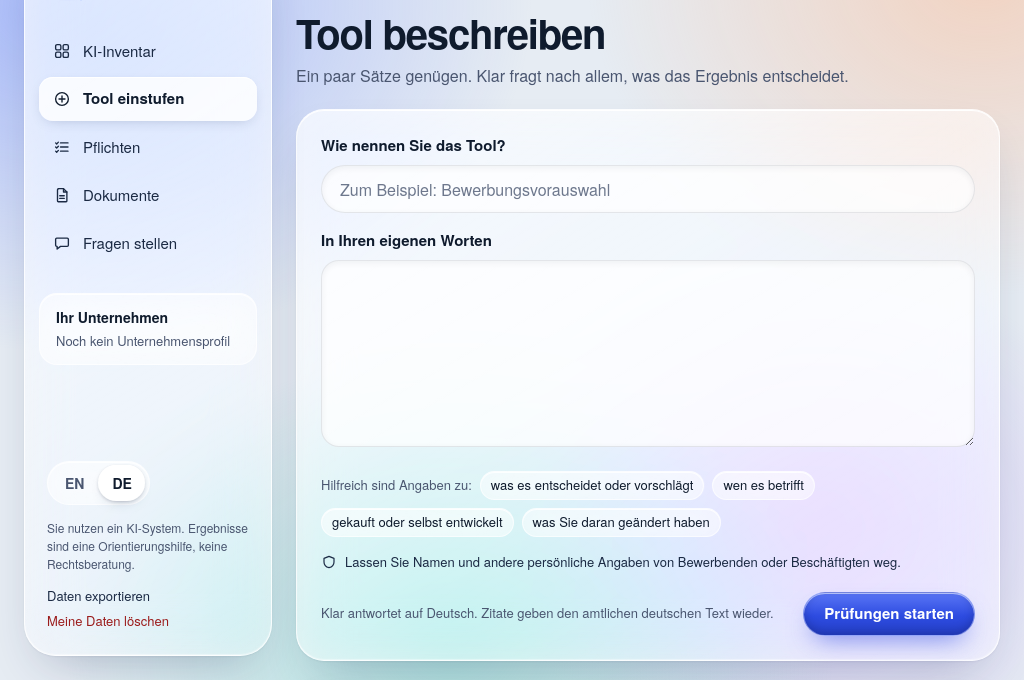
Test: Classify, a description too thin to start › asks the prompts in German
The image size is (1024, 680).
Expected: the heading "Tool beschreiben" is shown, [296, 4, 605, 61]
Click the text box labelled "In Ihren eigenen Worten" at [648, 354], box [321, 260, 975, 447]
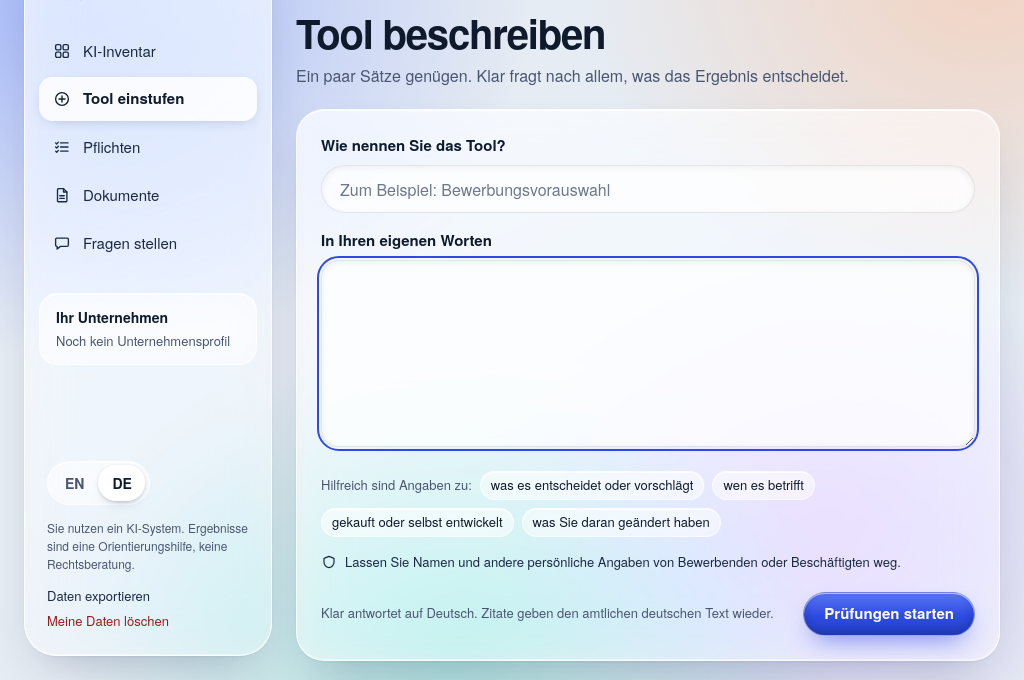
Type keys "We use AI for HR."
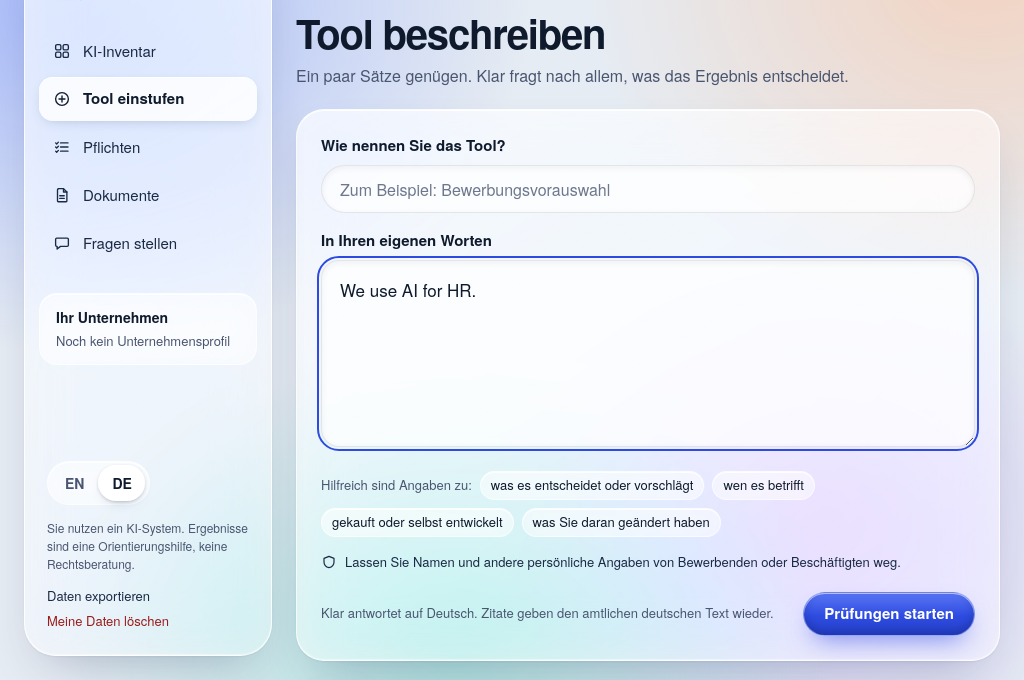
Click the button "Prüfungen starten" at [889, 614], box [803, 592, 975, 636]
(page scrolled)
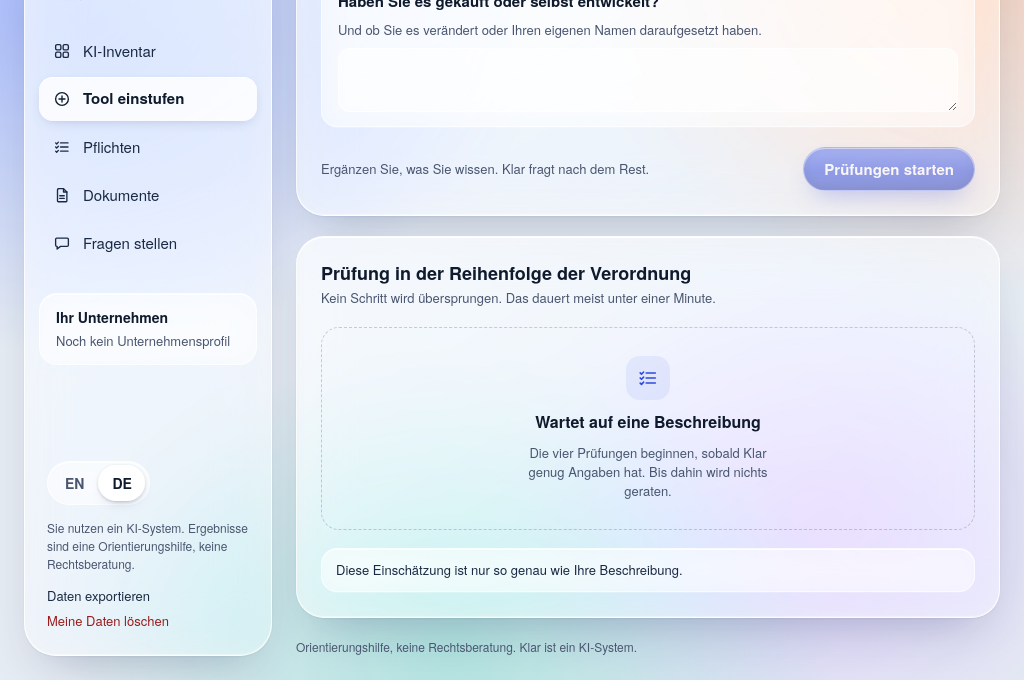
Expected: the text "Ergänzen Sie, was Sie wissen. Klar fragt nach dem Rest." is shown, [321, 160, 649, 179]
Expected: the text box labelled "Haben Sie es gekauft oder selbst entwickelt?" is shown, [338, 48, 958, 112]
Expected: the button "Prüfungen starten" is disabled, [803, 147, 975, 191]
